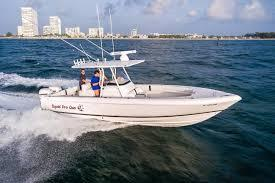fishing boat: (36, 26, 244, 128)
